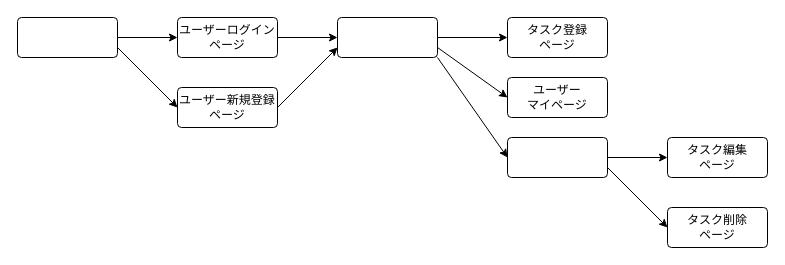
This 785x265 diagram has some shape labels left out. Each missing label, with the centre of its shape:
タスク詳細 ページ: the point at 557,157
トップページ: the point at 67,37
一覧ページ: the point at 387,37
